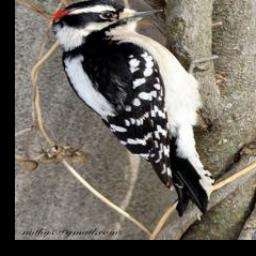Woodpecker: (51, 0, 217, 217)
